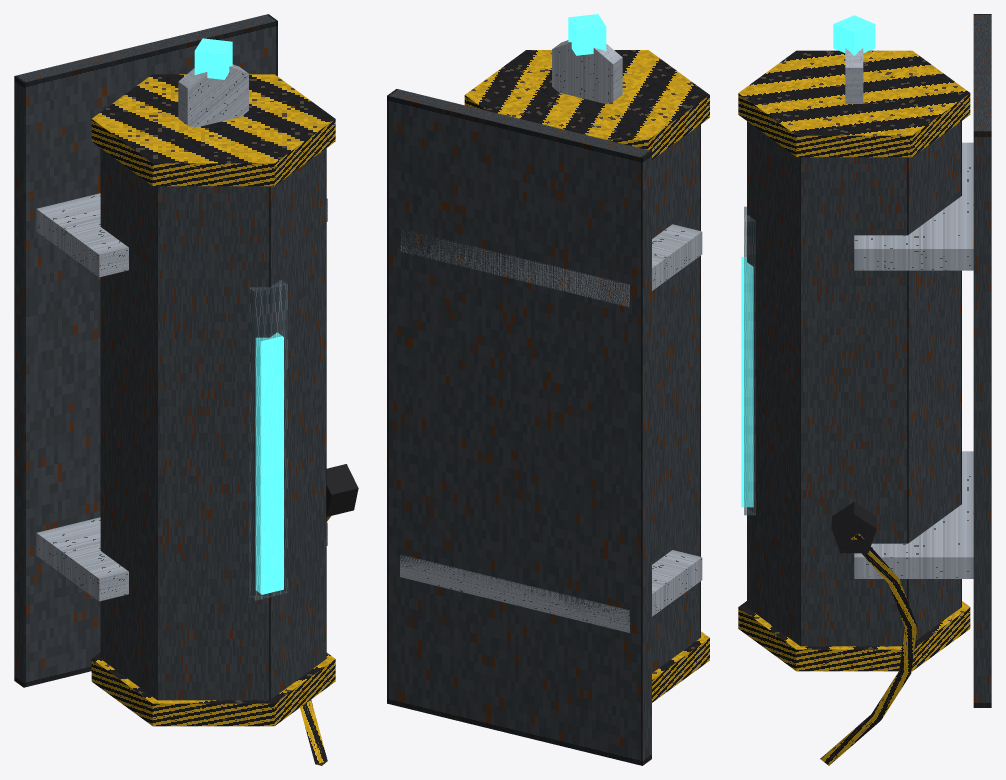
File: oxypod_command_bridge.glb
3 views of the same model, side by side, from view 1: azimuth 30°, elevation 25°; view 2: azimuth 150°, elevation 25°; view 3: azimuth 270°, elevation 25° (orthographic). The views are drawn at different scales.
Visible parts, largest first — view 1: oxypod_command_bridge; view 2: oxypod_command_bridge; view 3: oxypod_command_bridge.
Boxes of the visible parts, x1,y1,x2,y2 form: oxypod_command_bridge: (14, 14, 358, 765); oxypod_command_bridge: (387, 14, 709, 765); oxypod_command_bridge: (738, 14, 991, 765).
Bounding box in the file's own units: 0.4809 × 1.29 × 0.4244.
9 materials, 9 textured.
